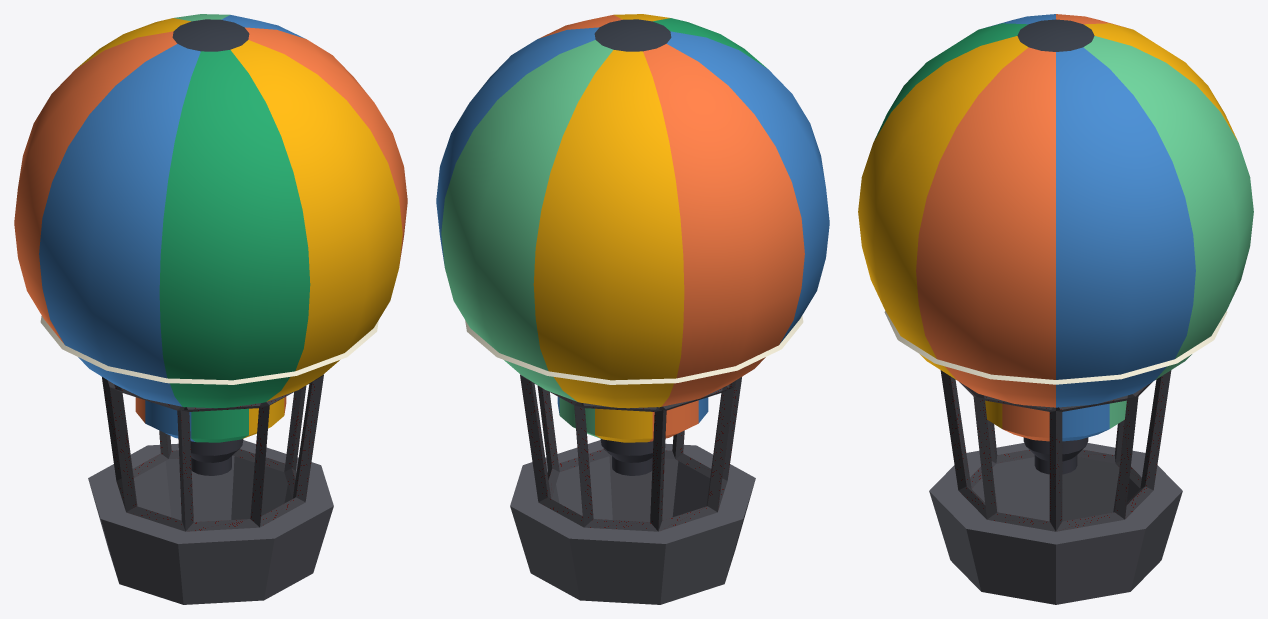
File: Balloon_1.fbx
3 views of the same model, side by side, from view 1: azimuth 30°, elevation 25°; view 2: azimuth 150°, elevation 25°; view 3: azimuth 270°, elevation 25° (orthographic).
Visible parts, largest first — view 1: Balloon, Sphere.005, Balloon.001, Balloon.002; view 2: Balloon, Sphere.005, Balloon.001, Balloon.002; view 3: Balloon, Sphere.005, Balloon.001, Balloon.002.
Boxes of the visible parts, box(x1,y1,x2,y2) form: Balloon: box(14, 14, 407, 442); Sphere.005: box(88, 440, 333, 604); Balloon.001: box(102, 374, 323, 531); Balloon.002: box(190, 439, 243, 475); Balloon: box(436, 14, 829, 442); Sphere.005: box(510, 440, 755, 604); Balloon.001: box(520, 374, 741, 531); Balloon.002: box(600, 439, 653, 475); Balloon: box(858, 14, 1253, 441); Sphere.005: box(929, 443, 1182, 604); Balloon.001: box(940, 370, 1171, 531); Balloon.002: box(1023, 437, 1088, 474).
Size of the model in its own units: 100 by 147 by 100.
